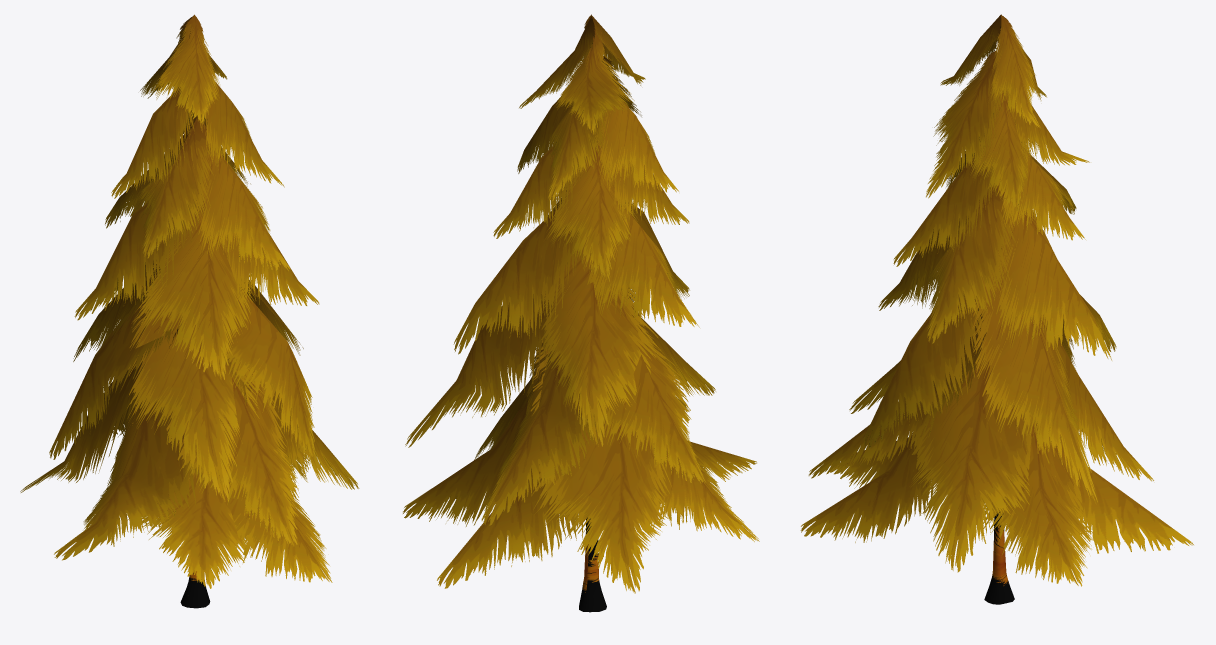
File: HerfstTree2.fbx
3 views of the same model, side by side, from view 1: azimuth 30°, elevation 25°; view 2: azimuth 150°, elevation 25°; view 3: azimuth 270°, elevation 25° (orthographic).
Parts seen in each view (by area): view 1: HerfstTree2; view 2: HerfstTree2; view 3: HerfstTree2.
Part boxes in pixels (box(x1,y1,x2,y2)): HerfstTree2: box(20, 14, 359, 608); HerfstTree2: box(403, 14, 759, 612); HerfstTree2: box(800, 14, 1193, 604).
Size of the model in its own units: 8.53 by 15.15 by 9.57.
